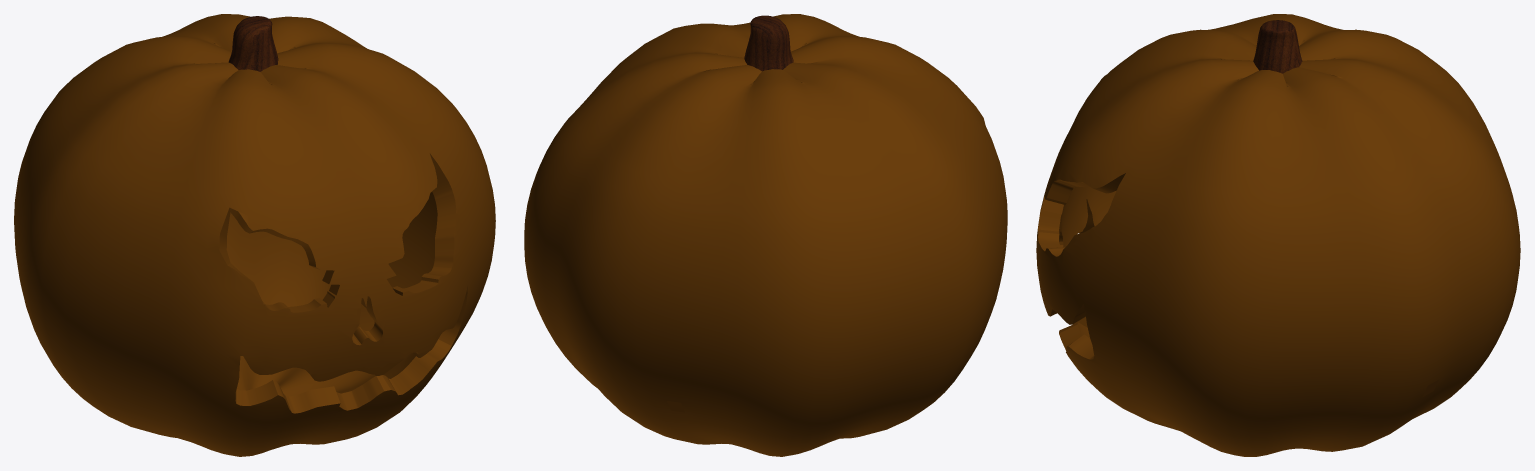
File: halloween_pumpkin.glb
3 renders of one model, left to right at view 1: azimuth 30°, elevation 25°; view 2: azimuth 150°, elevation 25°; view 3: azimuth 270°, elevation 25°, orthographic.
Parts seen in each view (by area): view 1: g; view 2: g; view 3: g.
Part boxes in pixels (x1=…): g: x1=14, y1=14, x2=495, y2=456; g: x1=524, y1=14, x2=1007, y2=456; g: x1=1036, y1=14, x2=1520, y2=456.
Size of the model in its own units: 2 by 1.83 by 1.98.
Materials: 1 (1 with a texture image).
